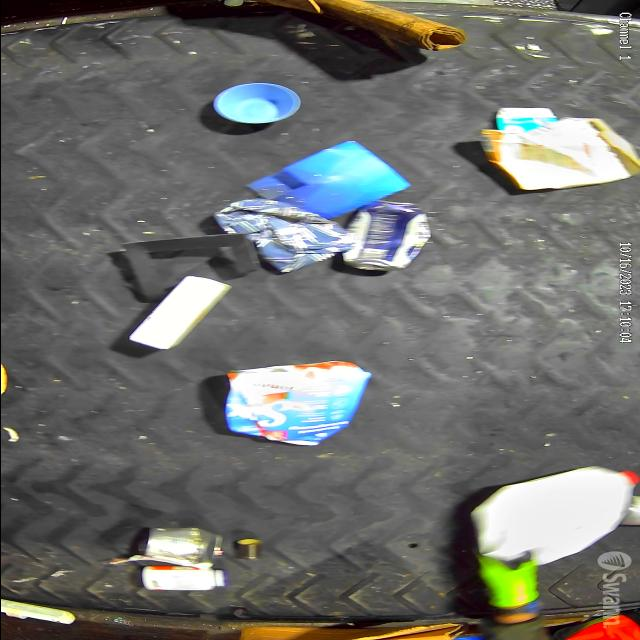can: (346, 199, 434, 269), (138, 530, 227, 562)
milk_jug: (485, 461, 639, 563)
